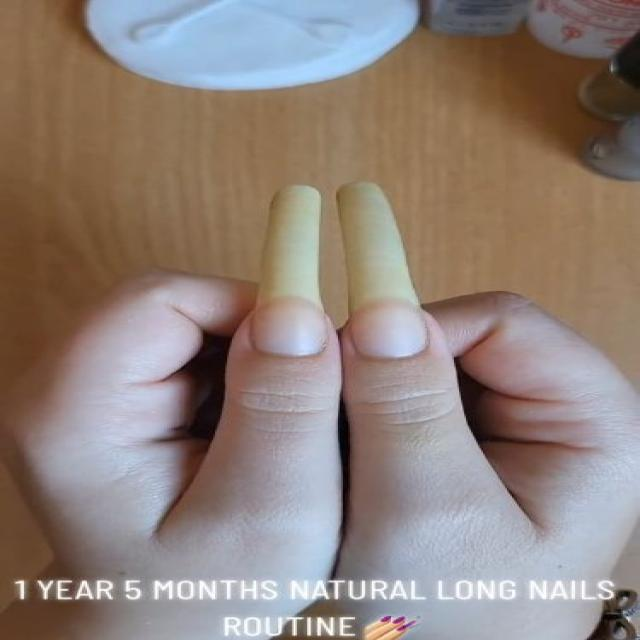Fingernail: (336, 181, 429, 358), (253, 185, 327, 355)
